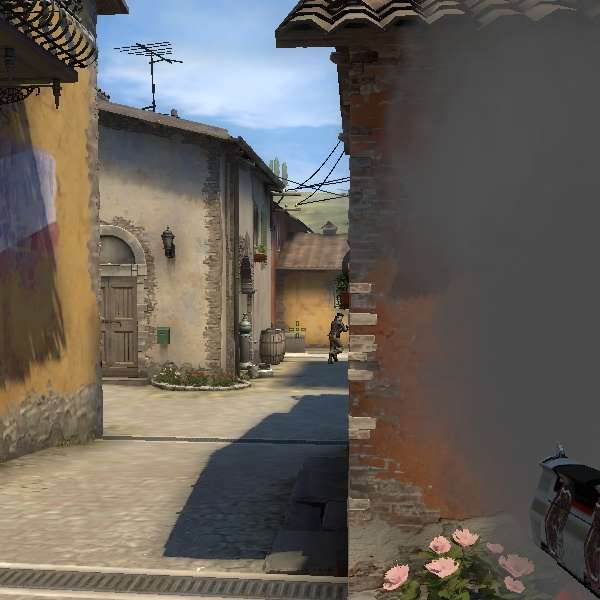t_body: (322, 308, 354, 359)
t_head: (333, 310, 346, 326)
